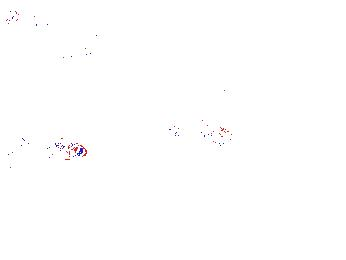red belly glassfish: (158, 121, 233, 148), (21, 135, 89, 161)
redtail glassfish: (2, 11, 73, 35), (53, 42, 94, 62)
